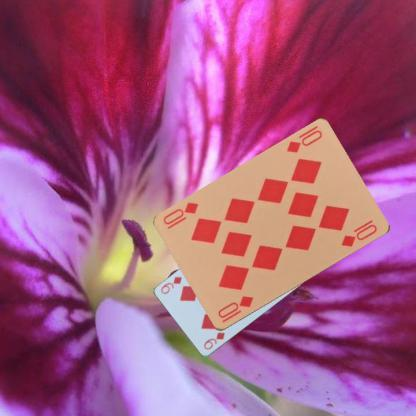10d: (284, 123, 324, 155), (215, 294, 255, 324)
9d: (200, 330, 225, 352)
